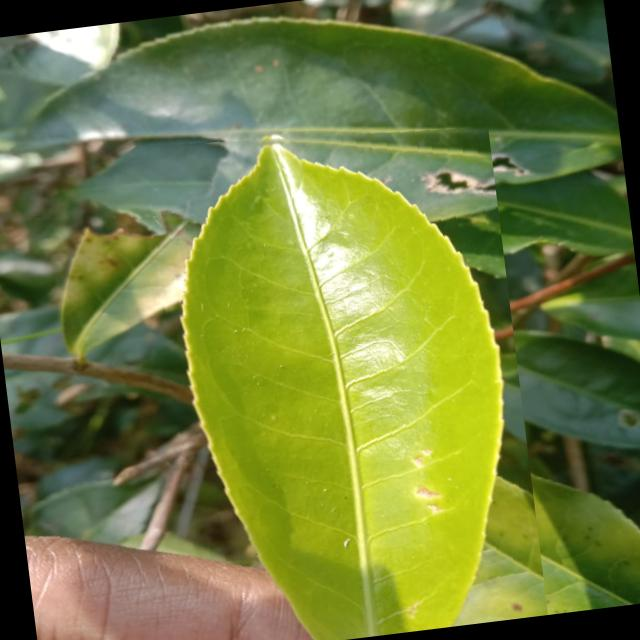Category B(2-4 days): (136, 103, 547, 640)
